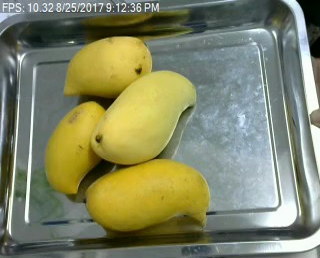Mango: (88, 68, 193, 160), (84, 159, 208, 229), (37, 101, 106, 192), (64, 36, 151, 100)
